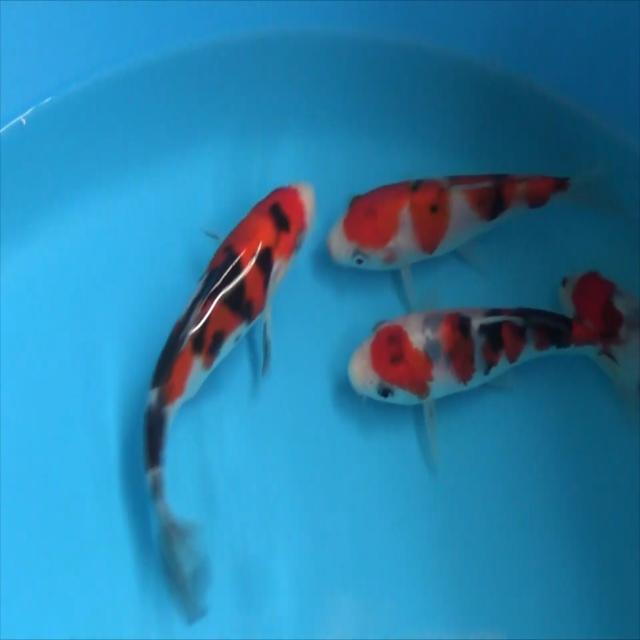Sanke: (142, 179, 316, 625), (347, 269, 637, 473), (326, 170, 571, 276)
